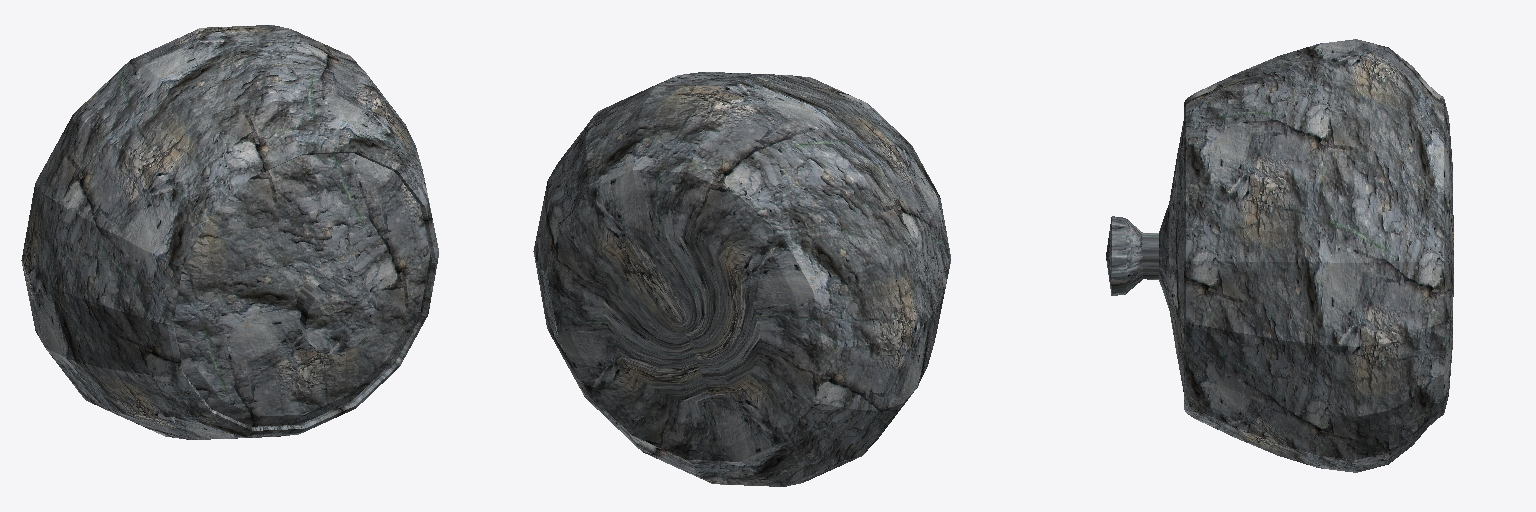
3 renders of one model, left to right at view 1: azimuth 30°, elevation 25°; view 2: azimuth 150°, elevation 25°; view 3: azimuth 270°, elevation 25°, orthographic.
Parts seen in each view (by area): view 1: DiffBump; view 2: DiffBump; view 3: DiffBump.
Boxes of the visible parts, box(x1,y1,x2,y2) form: DiffBump: box(21, 25, 438, 439); DiffBump: box(533, 72, 950, 486); DiffBump: box(1106, 39, 1453, 472).
Bounding box in the file's own units: 0.9991 × 0.9992 × 0.8037.
Materials: 1 (1 with a texture image).